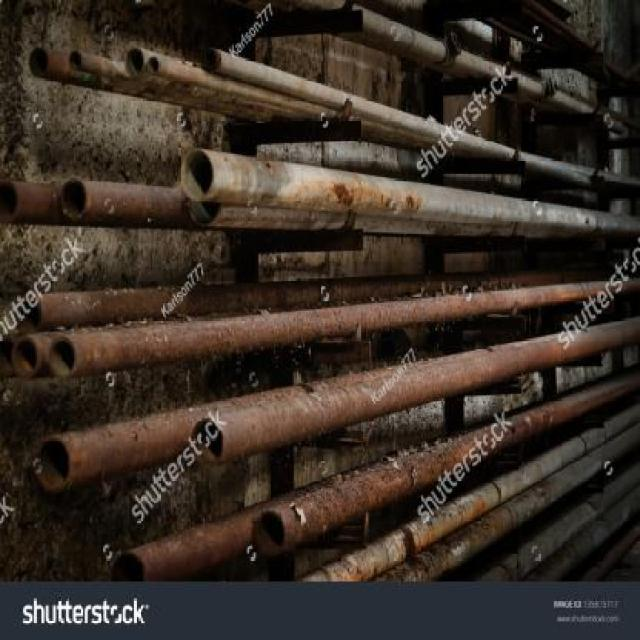corrosion: (9, 10, 640, 570)
